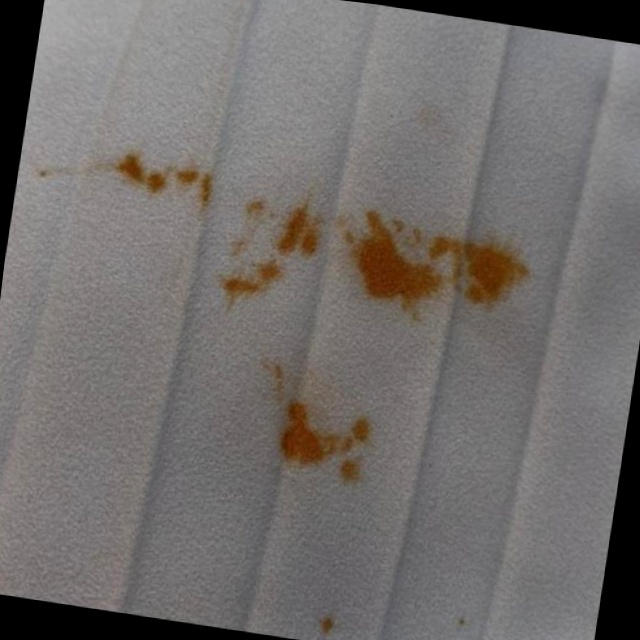kimchi: (19, 131, 548, 340), (240, 346, 391, 508), (309, 606, 349, 640), (447, 605, 478, 635)
